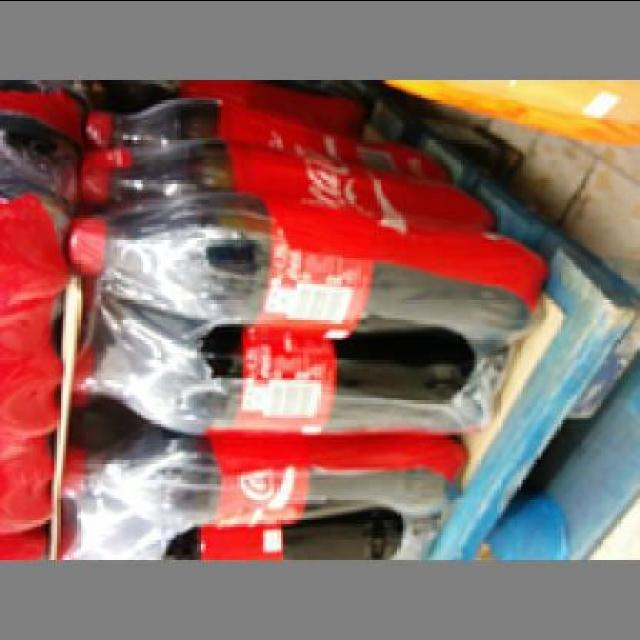Coke: (68, 191, 544, 340), (66, 320, 494, 437), (57, 430, 466, 536)
